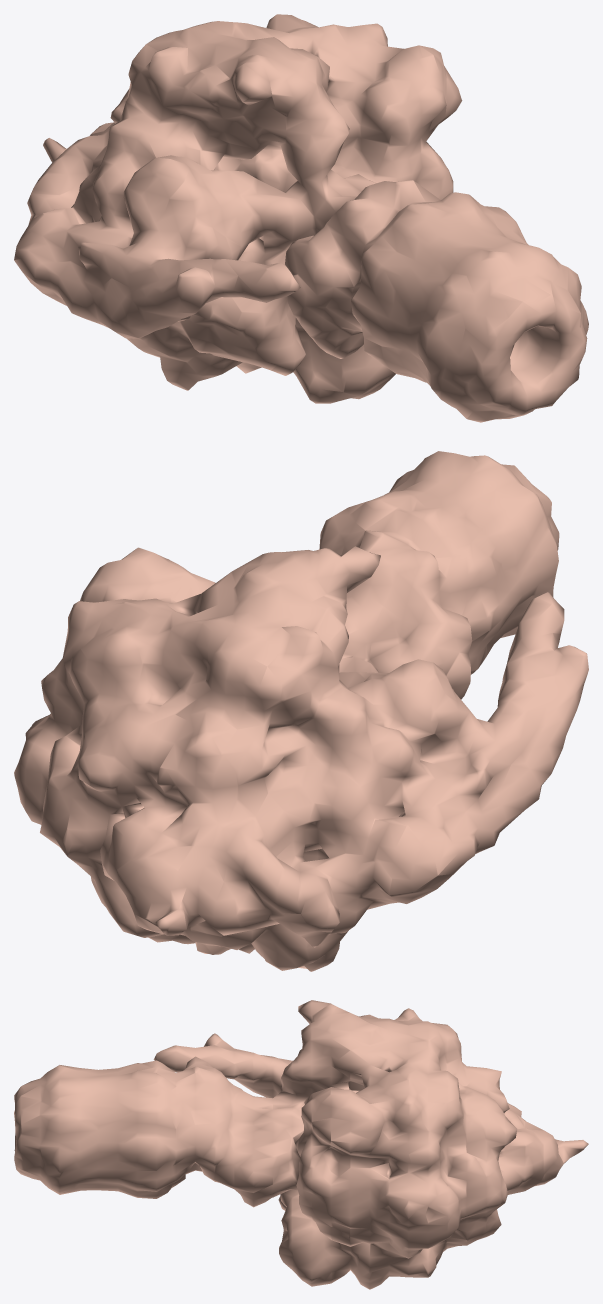
Rendered from ATPaseAligned_1_1.dae.
The picture shows the model from 3 angles, top to bottom: view 1: azimuth 30°, elevation 25°; view 2: azimuth 150°, elevation 25°; view 3: azimuth 270°, elevation 25°; orthographic projection. The views are drawn at different scales.
Visible parts, largest first — view 1: CoarseMS_4b2q_aligned; view 2: CoarseMS_4b2q_aligned; view 3: CoarseMS_4b2q_aligned.
Part boxes in pixels (bbox=[...]): CoarseMS_4b2q_aligned: bbox=[14, 14, 588, 422]; CoarseMS_4b2q_aligned: bbox=[14, 451, 588, 971]; CoarseMS_4b2q_aligned: bbox=[14, 1000, 588, 1289].
Size of the model in its own units: 135 by 116 by 237.
